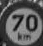Speed limit: (2, 3, 40, 41)
